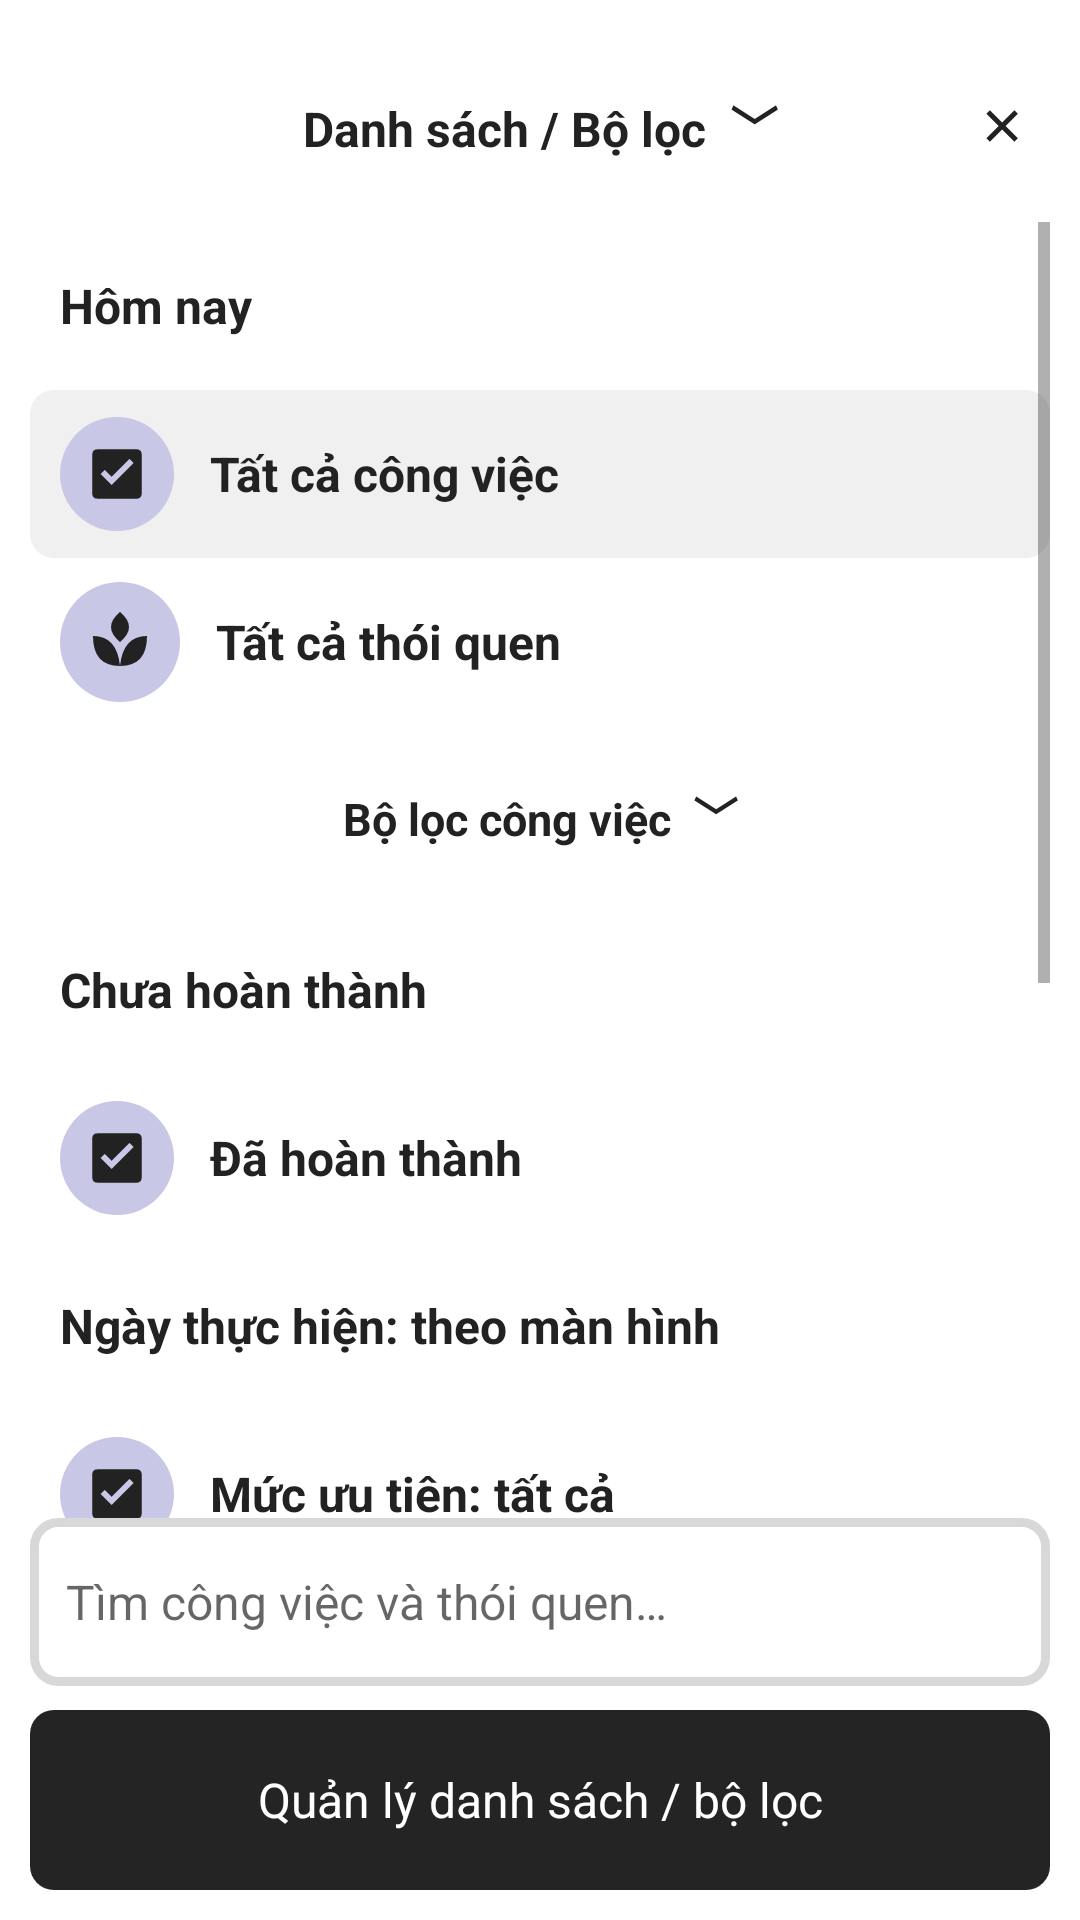

Screen size 1080 × 1920. Icon name, then its center in pixels as (x=x, y=y):
Đóng: (x=1002, y=126)
